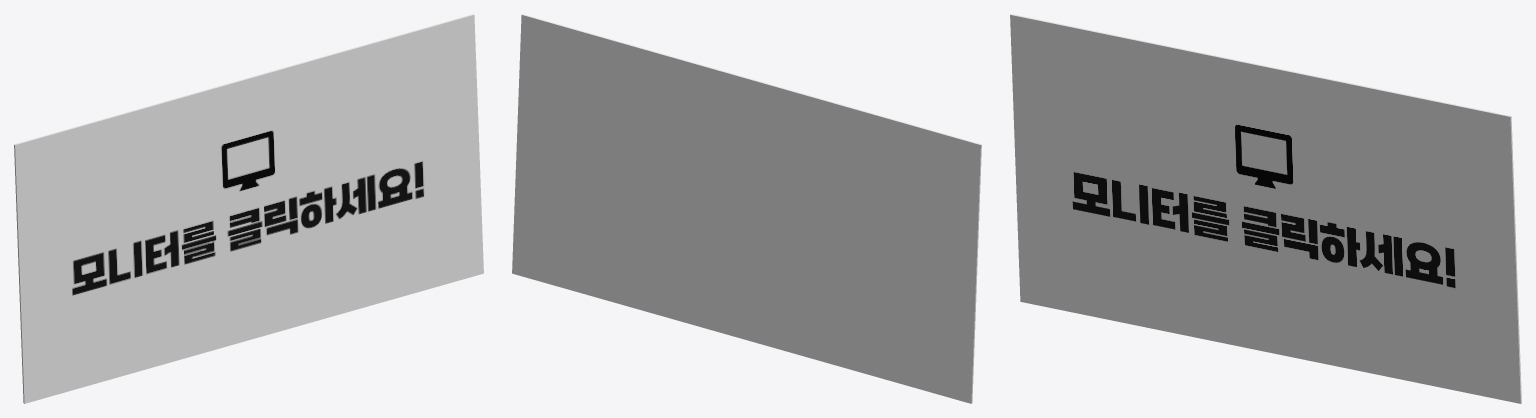
Rendered from poster_03.fbx.
3 renders of one model, left to right at view 1: azimuth 30°, elevation 25°; view 2: azimuth 150°, elevation 25°; view 3: azimuth 330°, elevation 25°, orthographic. The views are drawn at different scales.
Visible parts, largest first — view 1: poster_3; view 2: poster_3; view 3: poster_3.
Part boxes in pixels (x1,y1,x2,y2): poster_3: [14, 14, 483, 403]; poster_3: [512, 14, 981, 403]; poster_3: [1010, 14, 1521, 403].
Size of the model in its own units: 2.25 by 1.28 by 0.00841.
1 material, 1 textured.
